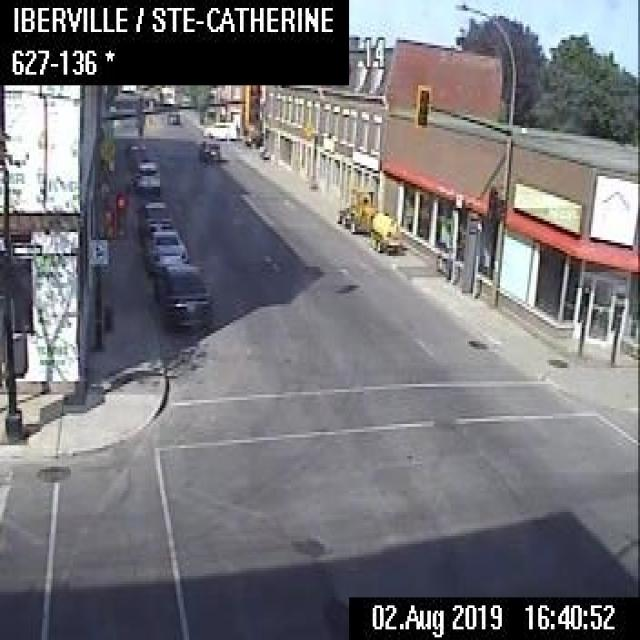vehicle: (337, 186, 401, 254), (152, 262, 211, 331), (144, 229, 187, 274), (132, 198, 170, 236), (143, 216, 176, 252), (129, 157, 160, 194), (202, 120, 234, 138), (195, 138, 218, 163), (126, 140, 144, 170), (243, 129, 262, 145), (166, 110, 179, 124)
